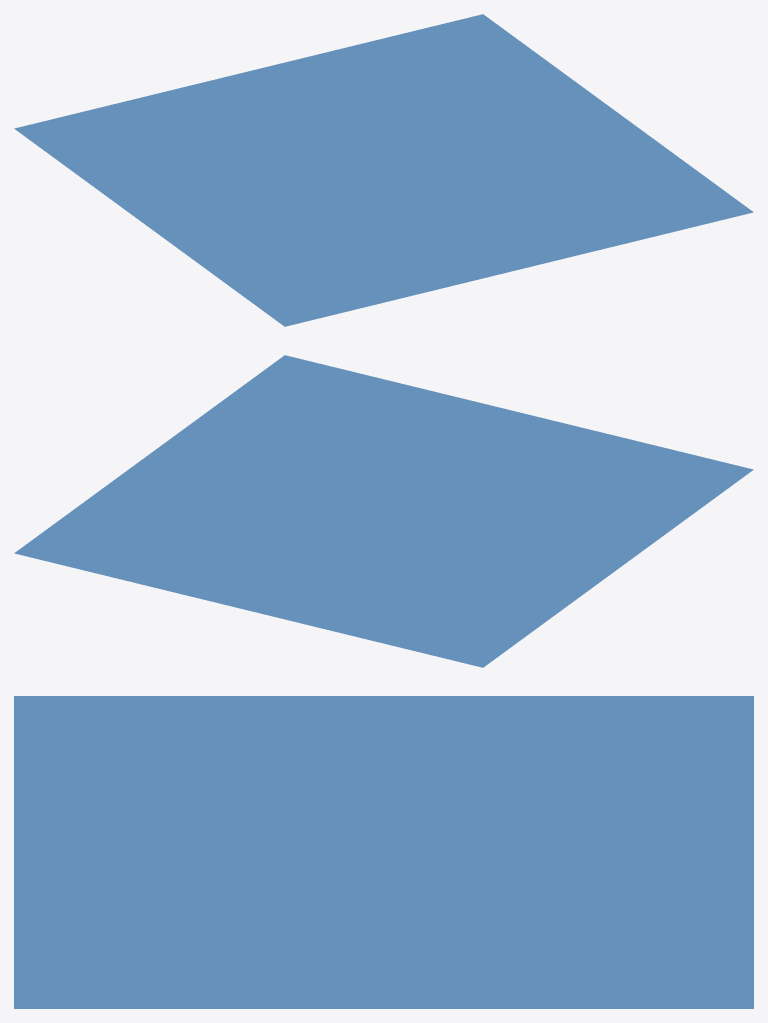
Rendered from polybeach_water.fbx.
The picture shows the model from 3 angles, top to bottom: view 1: azimuth 30°, elevation 25°; view 2: azimuth 150°, elevation 25°; view 3: azimuth 270°, elevation 25°; orthographic projection. The views are drawn at different scales.
Parts seen in each view (by area): view 1: water; view 2: water; view 3: water.
Part boxes in pixels (x1,y1,x2,y2): water: [14, 14, 753, 326]; water: [14, 355, 753, 667]; water: [14, 696, 753, 1008].
Size of the model in its own units: 25.35 by 0 by 25.35.
